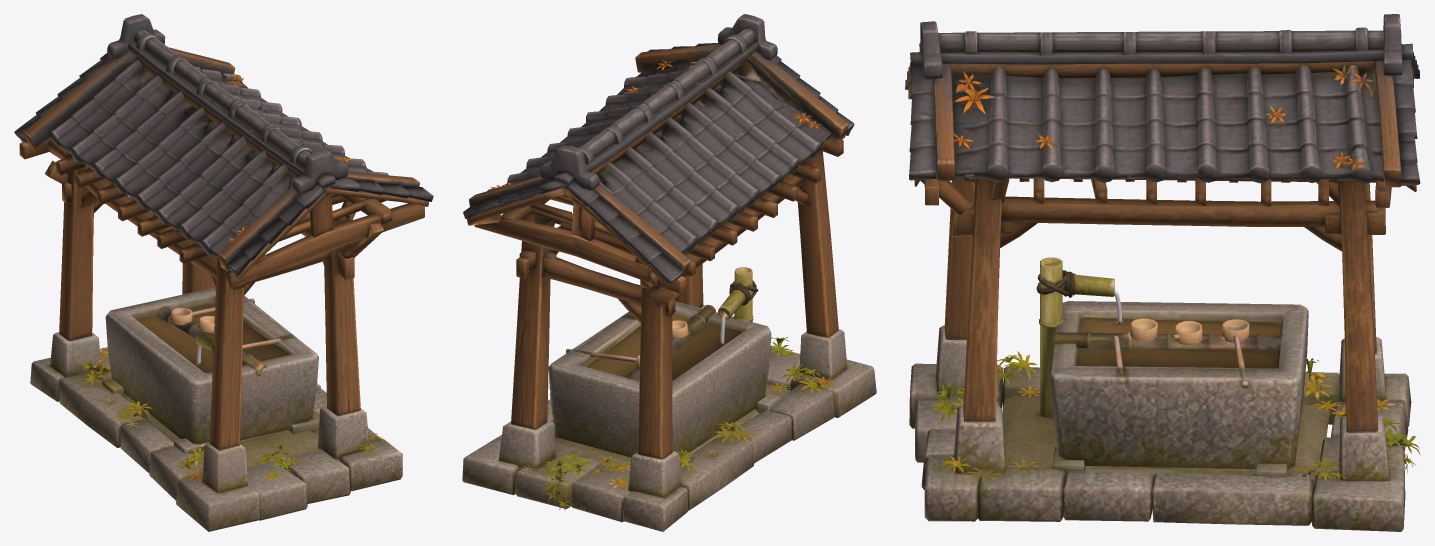
The model's file is water_basin.glb.
3 renders of one model, left to right at view 1: azimuth 30°, elevation 25°; view 2: azimuth 150°, elevation 25°; view 3: azimuth 270°, elevation 25°, orthographic. The views are drawn at different scales.
Visible parts, largest first — view 1: tripo_node_cb948f0a-2163-4c34-90dc-25294cdab94b; view 2: tripo_node_cb948f0a-2163-4c34-90dc-25294cdab94b; view 3: tripo_node_cb948f0a-2163-4c34-90dc-25294cdab94b.
Boxes of the visible parts, box(x1,y1,x2,y2) form: tripo_node_cb948f0a-2163-4c34-90dc-25294cdab94b: box(14, 14, 433, 531); tripo_node_cb948f0a-2163-4c34-90dc-25294cdab94b: box(462, 14, 876, 531); tripo_node_cb948f0a-2163-4c34-90dc-25294cdab94b: box(905, 14, 1420, 531).
Size of the model in its own units: 0.6479 by 0.9722 by 0.9995.
1 material, 1 textured.
